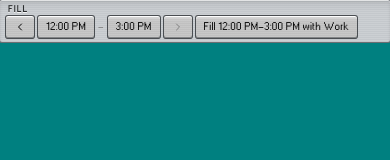
it: FillRangeControl › cycles empty blocks in chronological order
Click the button named "Previous empty block".
click(20, 27)  # box [6, 16, 34, 38]
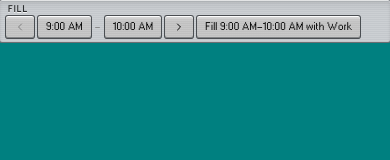
Check: the button "Fill 9:00 AM–10:00 AM with Work" is shown, box [197, 16, 360, 38]
Check: the button named "Previous empty block" is disabled, box [6, 16, 34, 38]
Check: the button named "Next empty block" is enabled
Click the button named "Next empty block".
click(179, 27)  # box [165, 16, 193, 38]
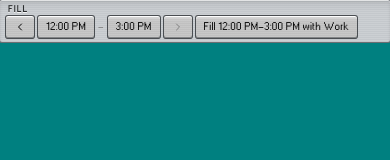
Check: the button "Fill 12:00 PM–3:00 PM with Work" is shown, box [196, 16, 357, 38]
